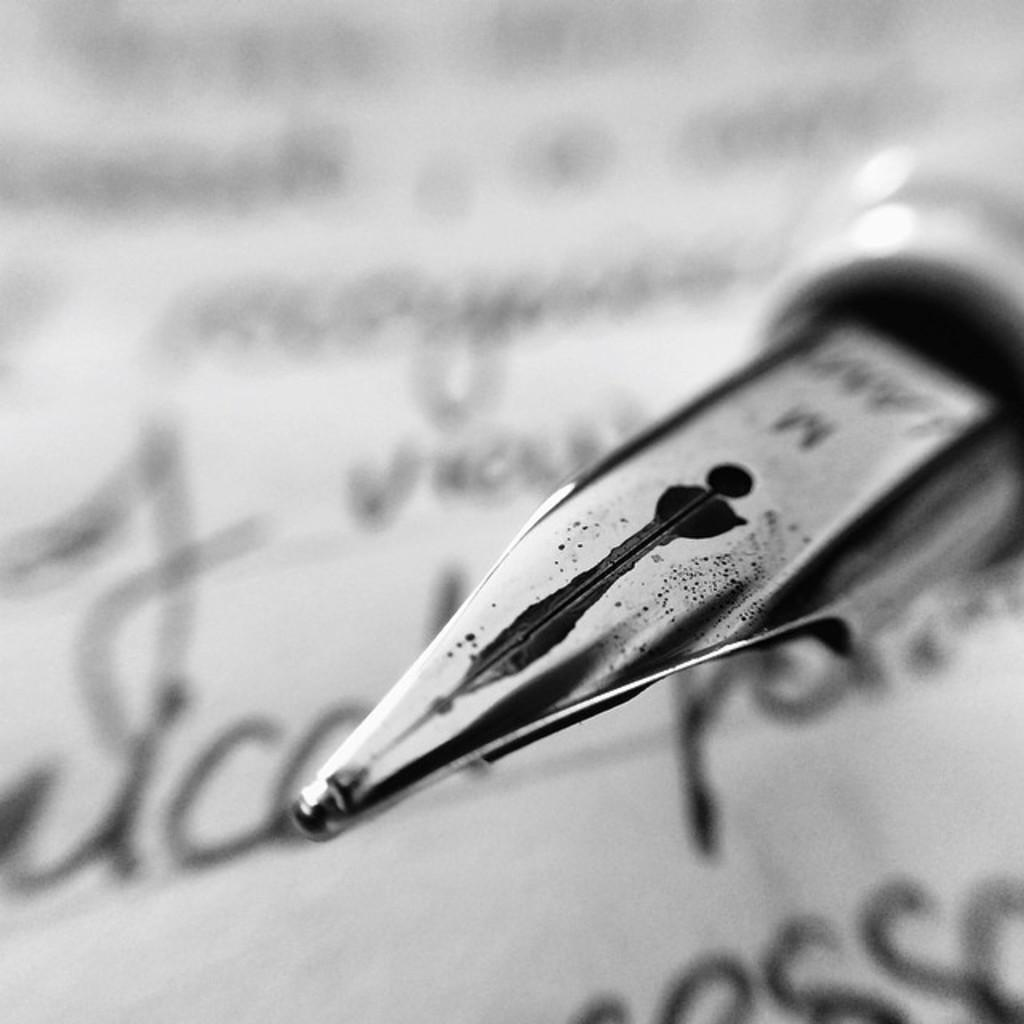pen: (283, 106, 1022, 838)
